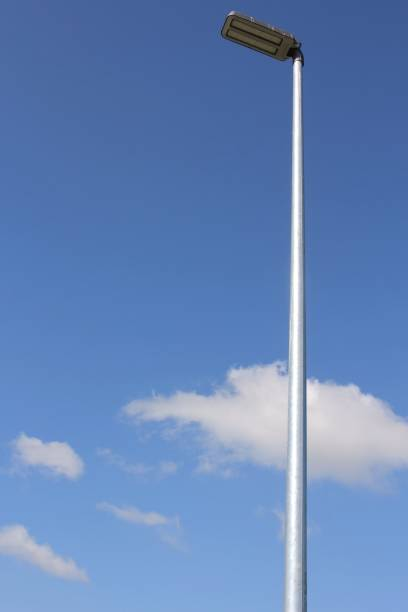light_pole: (286, 65, 308, 612)
